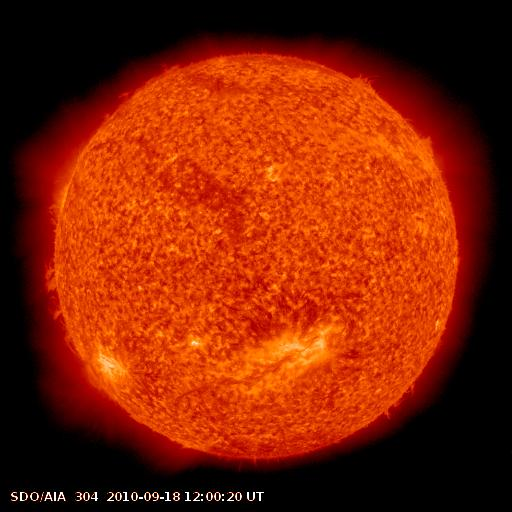prominence: (101, 49, 195, 124), (31, 252, 69, 324), (38, 170, 77, 234), (411, 125, 443, 169), (348, 63, 382, 100), (56, 329, 90, 365)
